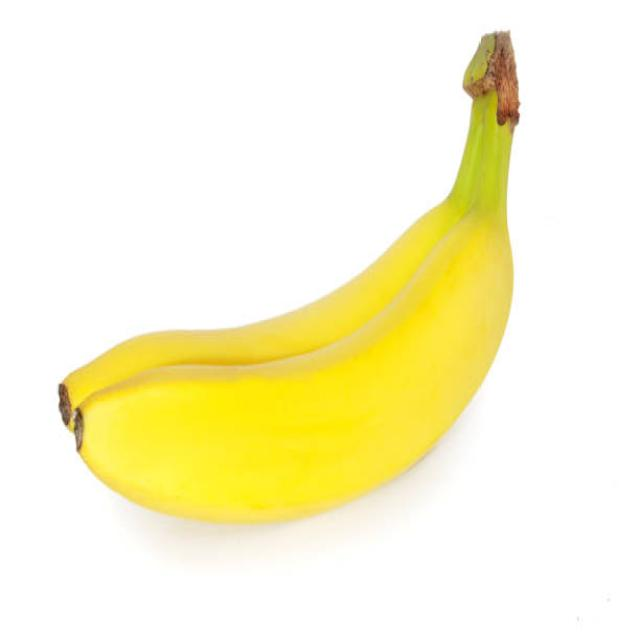Ripe: (74, 113, 520, 523)
